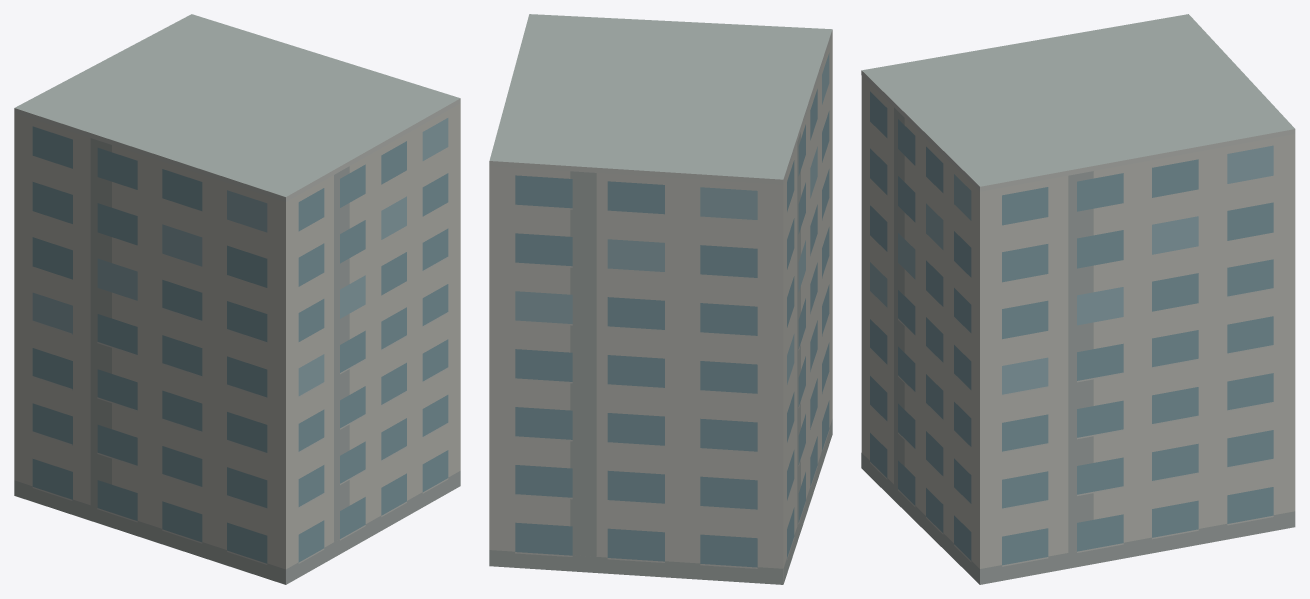
The model's file is survey-upis-32850417.glb.
3 views of the same model, side by side, from view 1: azimuth 30°, elevation 25°; view 2: azimuth 150°, elevation 25°; view 3: azimuth 270°, elevation 25° (orthographic). The views are drawn at different scales.
Visible parts, largest first — view 1: survey-upis-32850417.tmp; view 2: survey-upis-32850417.tmp; view 3: survey-upis-32850417.tmp.
Boxes of the visible parts, left/top/right/bottom form: survey-upis-32850417.tmp: left=14, top=14, right=460, bottom=584; survey-upis-32850417.tmp: left=489, top=14, right=832, bottom=584; survey-upis-32850417.tmp: left=861, top=14, right=1295, bottom=584.
Bounding box in the file's own units: 17.69 × 19 × 18.77.
